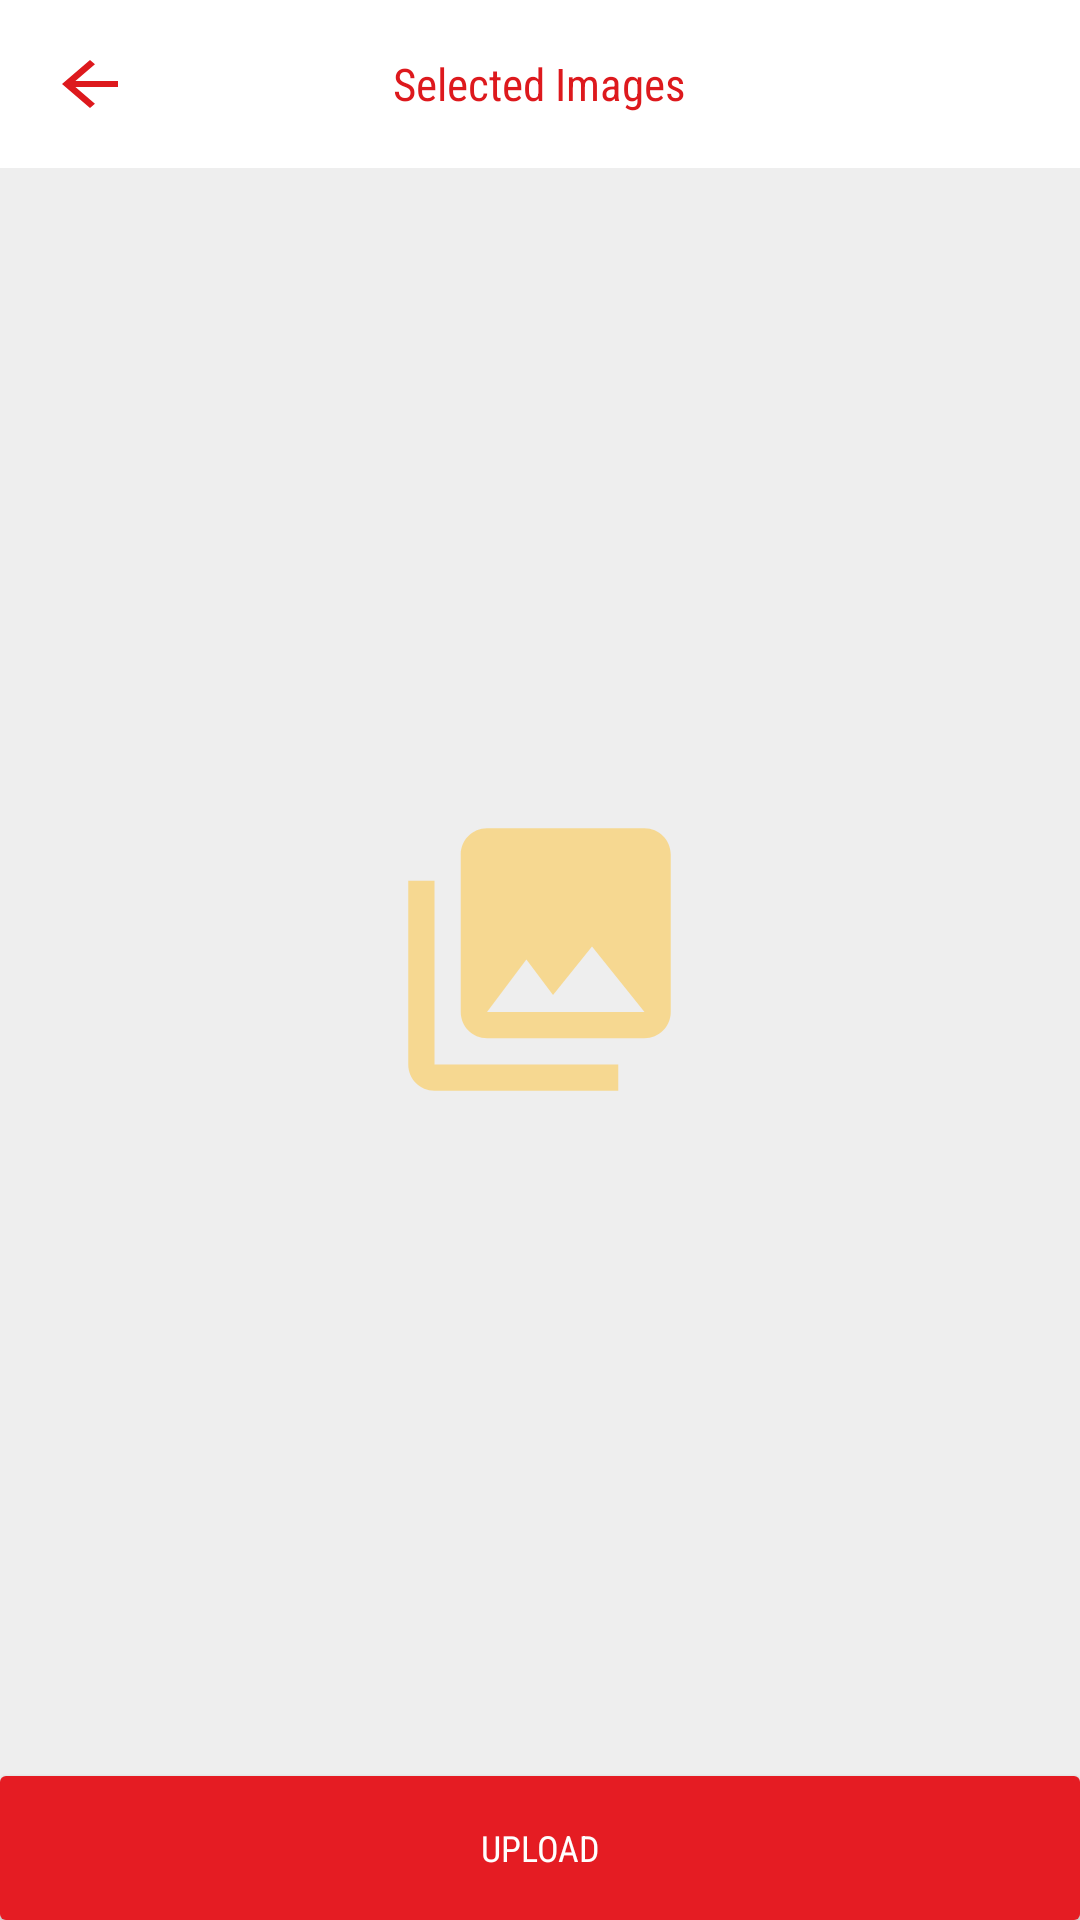

Icons on this 1080 x 1920 Android screen, each with the point to tap as (x=x, y=y):
back: (x=90, y=84)
photo: (x=539, y=959)
